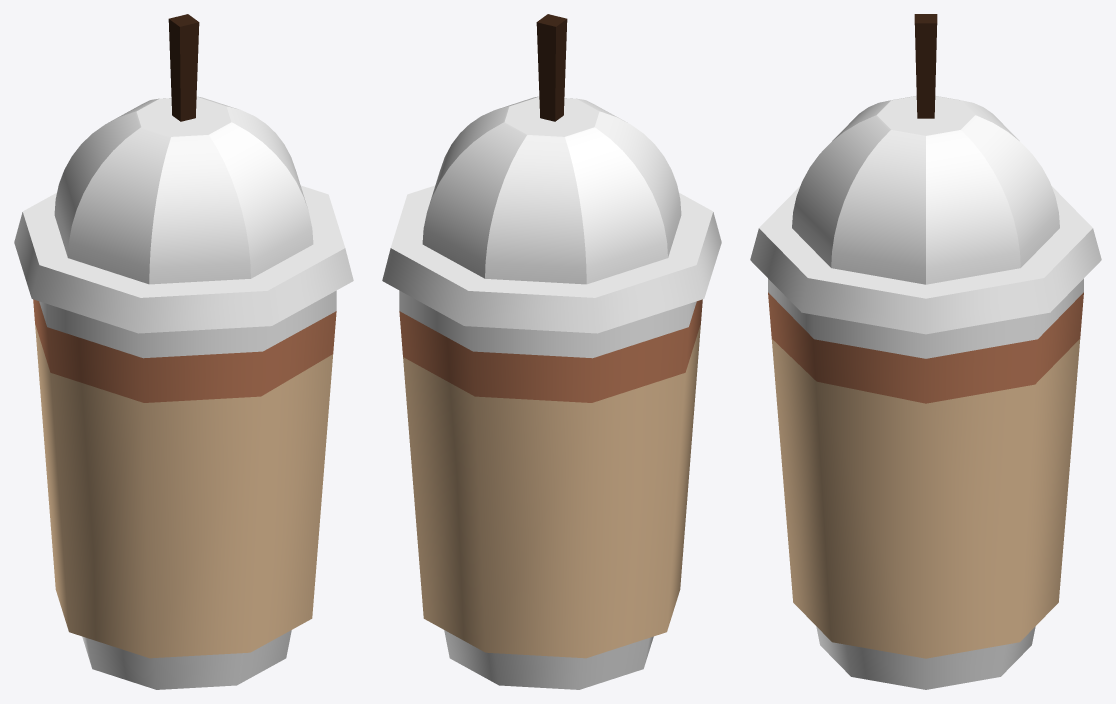
Rendered from Frappe.glb.
The picture shows the model from 3 angles, left to right: view 1: azimuth 30°, elevation 25°; view 2: azimuth 150°, elevation 25°; view 3: azimuth 270°, elevation 25°; orthographic projection.
Visible parts, largest first — view 1: Frappe; view 2: Frappe; view 3: Frappe.
Boxes of the visible parts, left/top/right/bottom form: Frappe: left=14, top=14, right=353, bottom=689; Frappe: left=382, top=14, right=721, bottom=689; Frappe: left=750, top=14, right=1101, bottom=689.
Bounding box in the file's own units: 0.1118 × 0.2197 × 0.1118.
